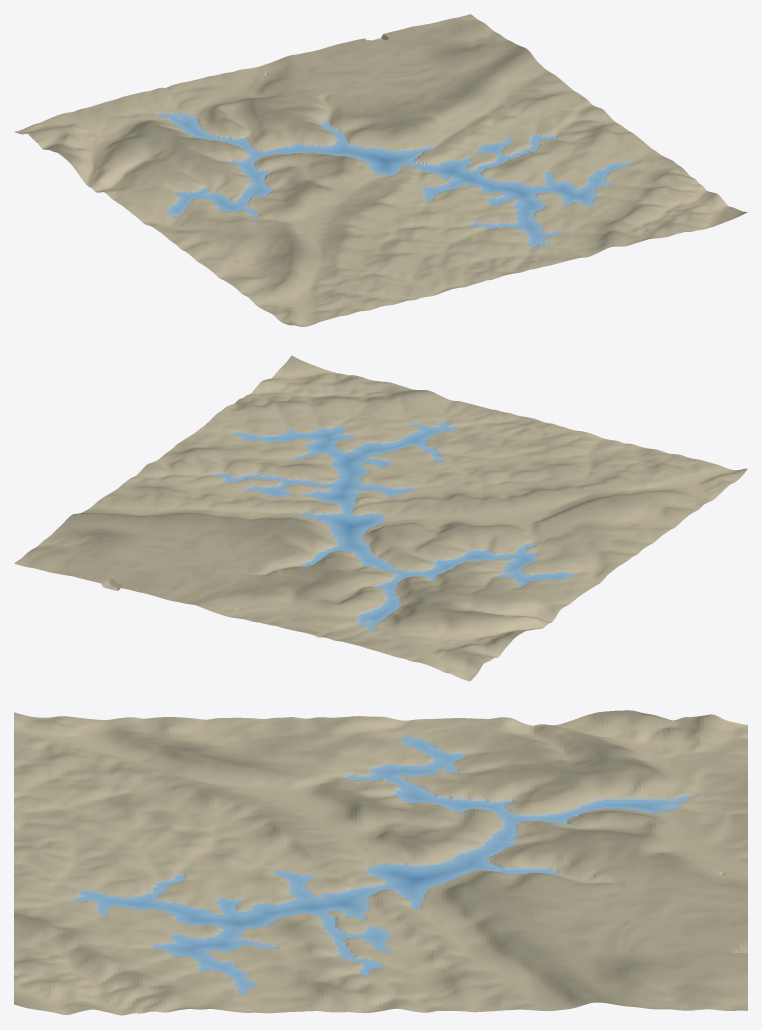
The model's file is deep_creek_lake_md.glb.
3 renders of one model, top to bottom at view 1: azimuth 30°, elevation 25°; view 2: azimuth 150°, elevation 25°; view 3: azimuth 270°, elevation 25°, orthographic. The views are drawn at different scales.
Visible parts, largest first — view 1: terrain, water; view 2: terrain, water; view 3: terrain, water.
Part boxes in pixels (x1,y1,x2,y2): terrain: (14,14,747,326); water: (158,113,631,247); terrain: (14,355,747,681); water: (217,423,576,630); terrain: (14,710,747,1015); water: (76,734,688,993).
Size of the model in its own units: 13789 by 432 by 14523.
